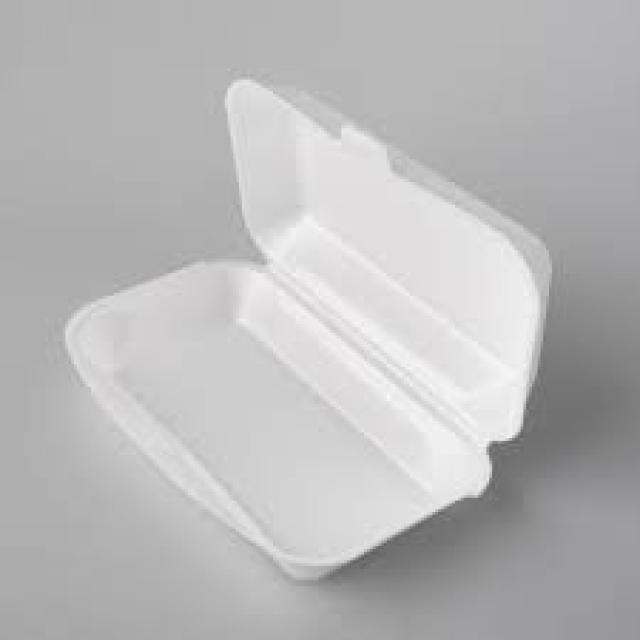styrofoam: (66, 79, 550, 579)
